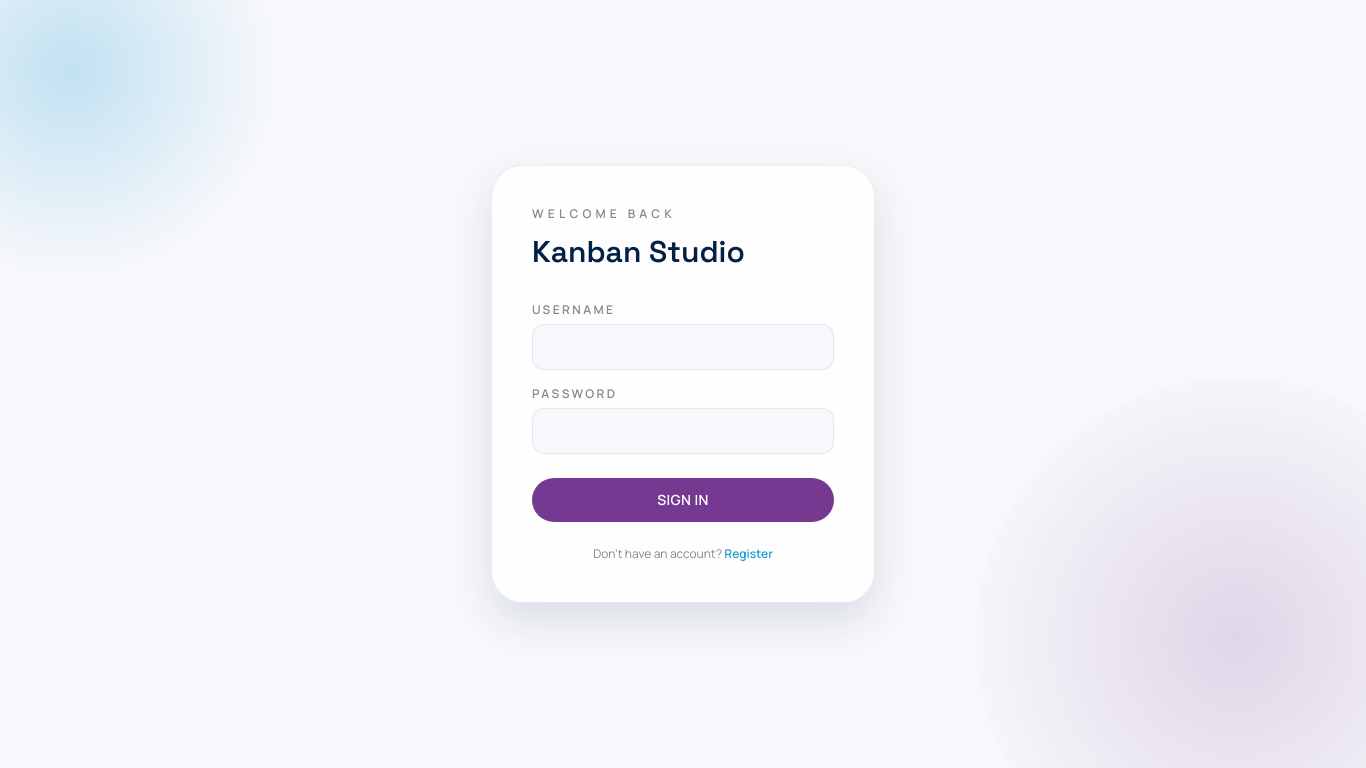
LoginPage › shows error on failed login
In the field labelled "Username": (683, 347) [532,324,834,370], type "user"
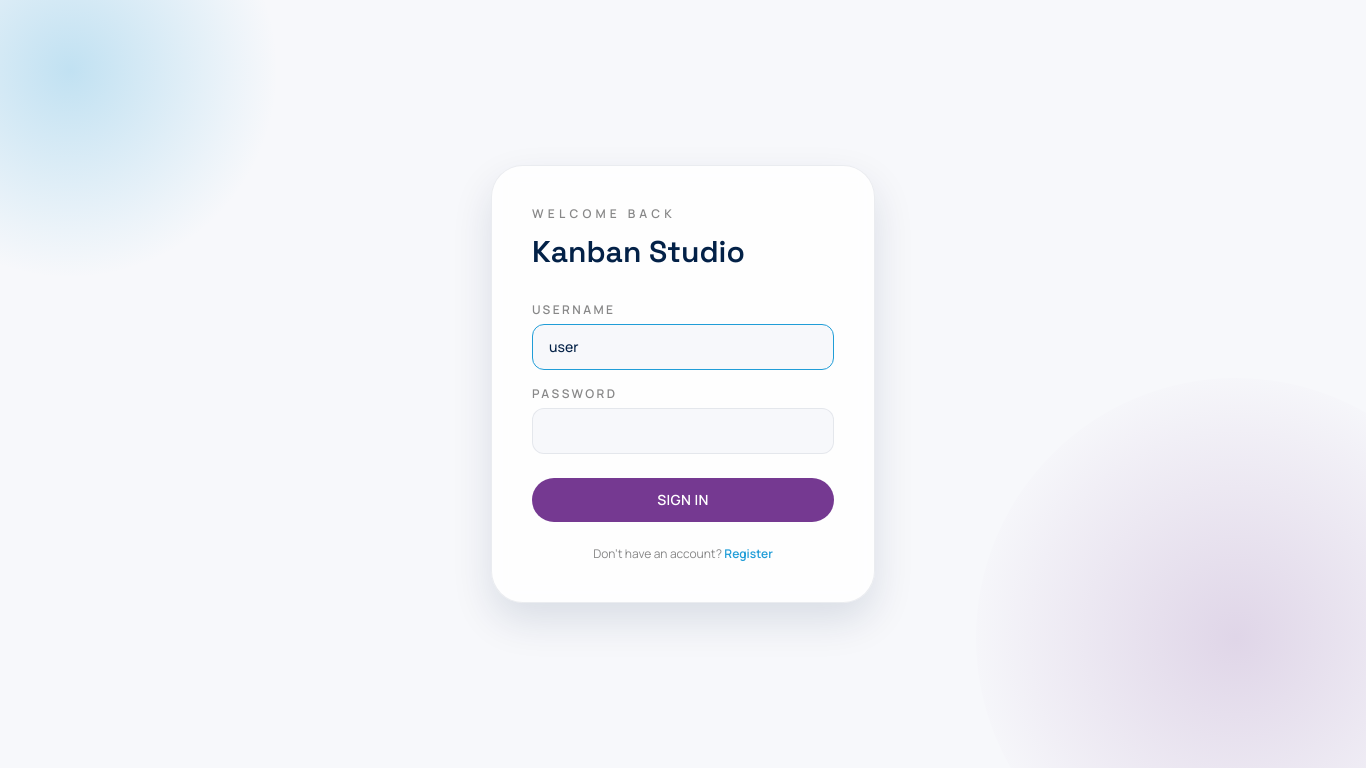
In the password field labelled "Password": (683, 431) [532,408,834,454], type "wrong"
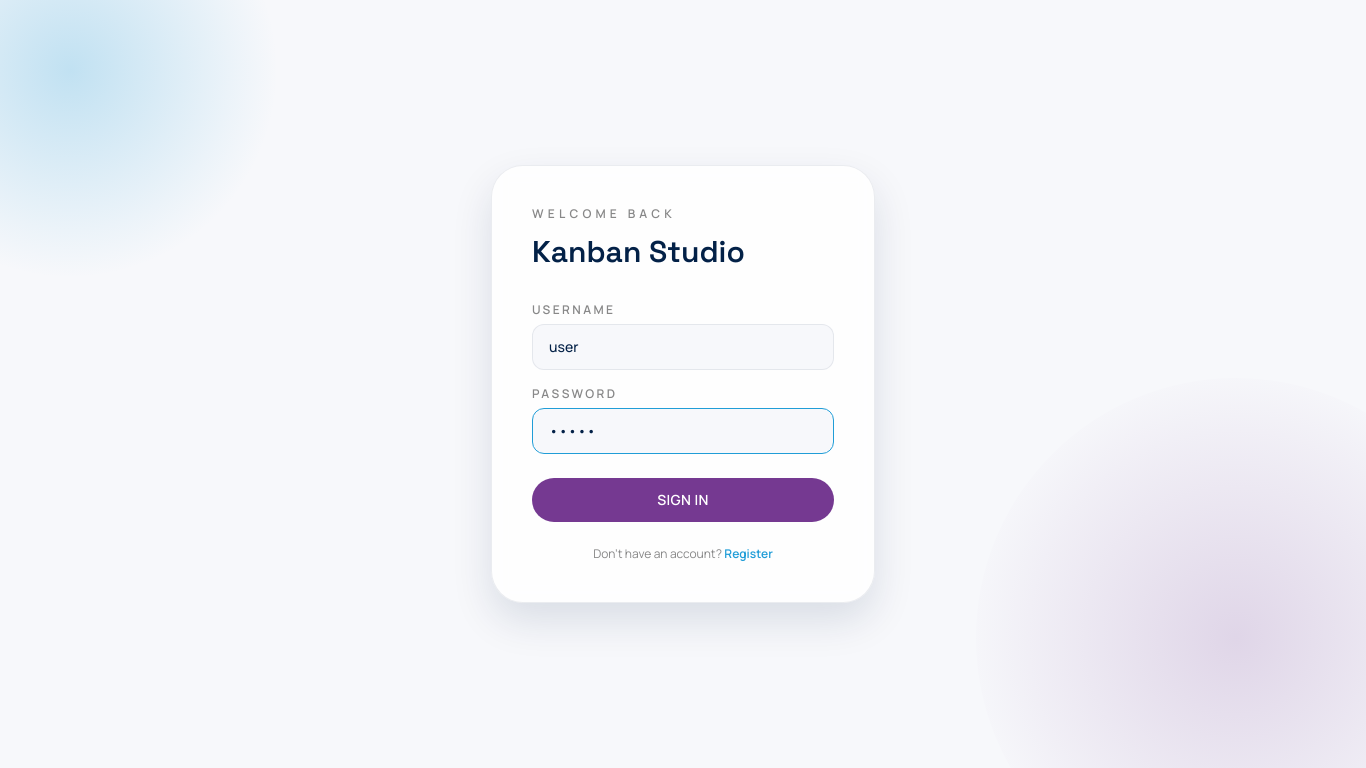
Click the button "Sign in": (683, 500) [532,478,834,522]
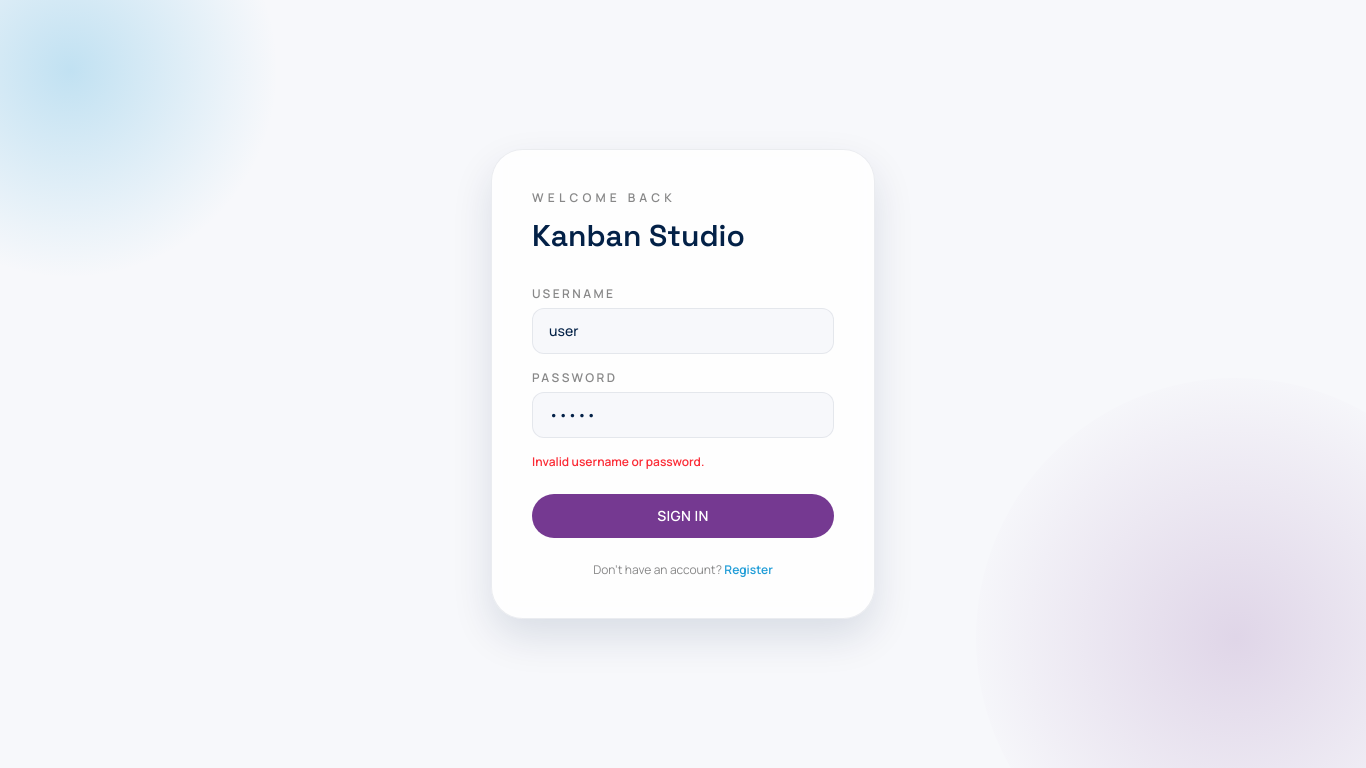
Check: the text "Invalid username or password." is shown, box [532,453,704,470]
